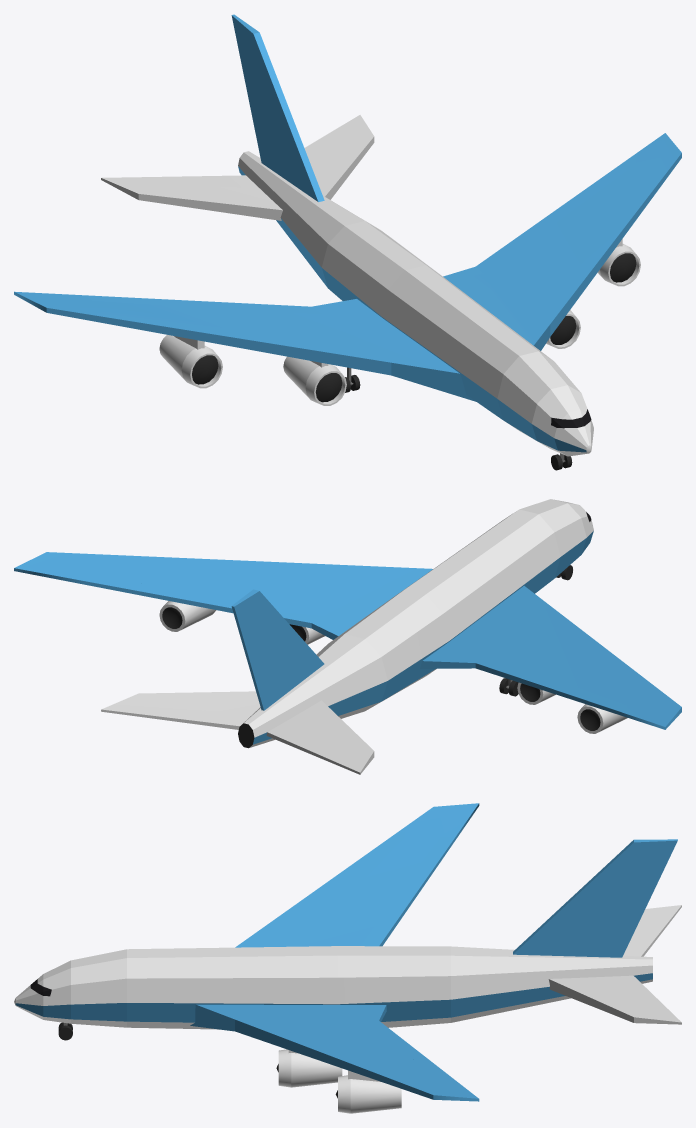
File: Big_Airplane_01.fbx
3 renders of one model, top to bottom at view 1: azimuth 30°, elevation 25°; view 2: azimuth 150°, elevation 25°; view 3: azimuth 270°, elevation 25°, orthographic. The views are drawn at different scales.
Parts seen in each view (by area): view 1: Big_Airplane_01, Airplane_01_Aileron_FL, Airplane_01_Aileron_FR, Airplane_01_Aileron_RR, Airplane_01_Aileron_RL; view 2: Big_Airplane_01, Airplane_01_Aileron_FL, Airplane_01_Aileron_FR, Airplane_01_Aileron_RL, Airplane_01_Aileron_RR; view 3: Big_Airplane_01, Airplane_01_Aileron_FR, Airplane_01_Aileron_RR, Airplane_01_Aileron_FL, Airplane_01_Aileron_RL.
Boxes of the visible parts, left/top/right/bottom form: Big_Airplane_01: left=14, top=14, right=681, bottom=462; Airplane_01_Aileron_FL: left=475, top=165, right=627, bottom=273; Airplane_01_Aileron_FR: left=85, top=295, right=321, bottom=313; Airplane_01_Aileron_RR: left=101, top=175, right=240, bottom=187; Airplane_01_Aileron_RL: left=304, top=115, right=364, bottom=162; Big_Airplane_01: left=14, top=499, right=681, bottom=768; Airplane_01_Aileron_FL: left=85, top=575, right=321, bottom=628; Airplane_01_Aileron_FR: left=475, top=655, right=627, bottom=714; Airplane_01_Aileron_RL: left=101, top=704, right=240, bottom=728; Airplane_01_Aileron_RR: left=278, top=726, right=364, bottom=774; Big_Airplane_01: left=14, top=803, right=677, bottom=1113; Airplane_01_Aileron_FR: left=361, top=837, right=455, bottom=946; Airplane_01_Aileron_RR: left=623, top=905, right=681, bottom=956; Airplane_01_Aileron_FL: left=361, top=1020, right=454, bottom=1079; Airplane_01_Aileron_RL: left=611, top=981, right=681, bottom=1024.
Size of the model in its own units: 4080 by 1272 by 3897.
